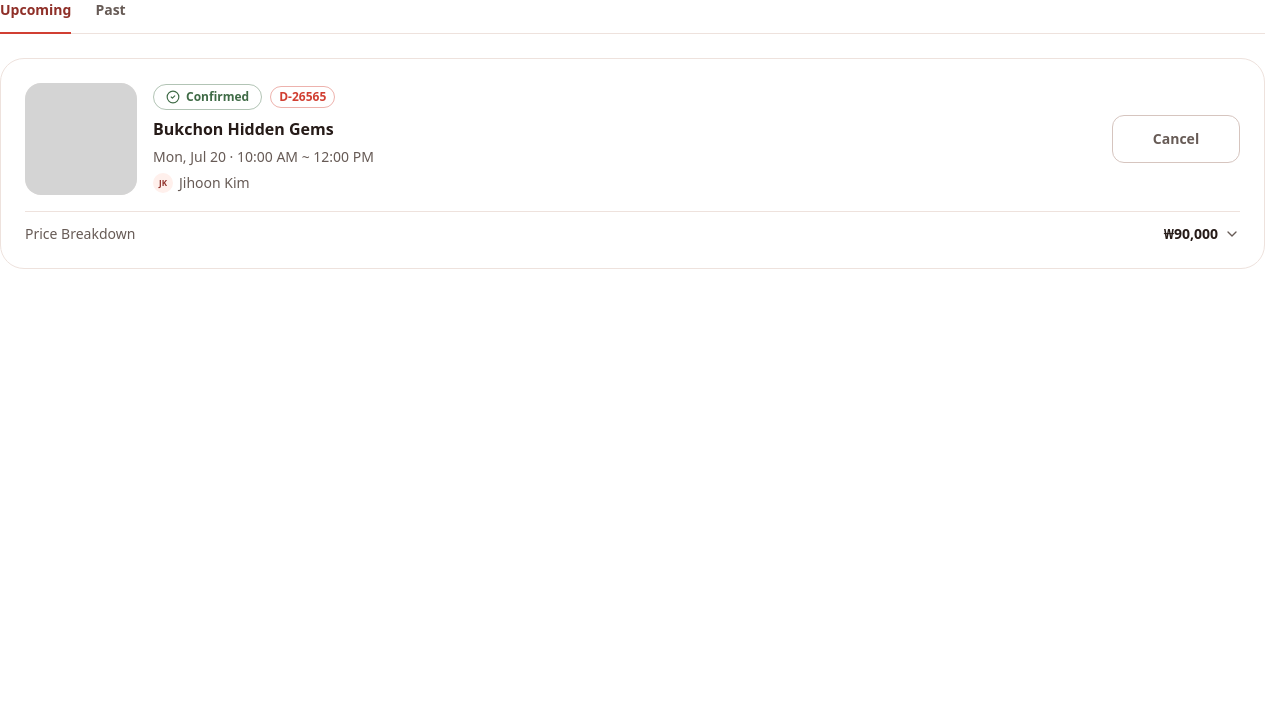
Test: ApplicationsContent › refreshes a pending refund result without offering another cancellation or claiming completion
What coordinates should you click on to do the following:
click the button "Cancel"
I would click on:
 (1176, 139)
Its box is x1=1112 y1=115 x2=1240 y2=163.
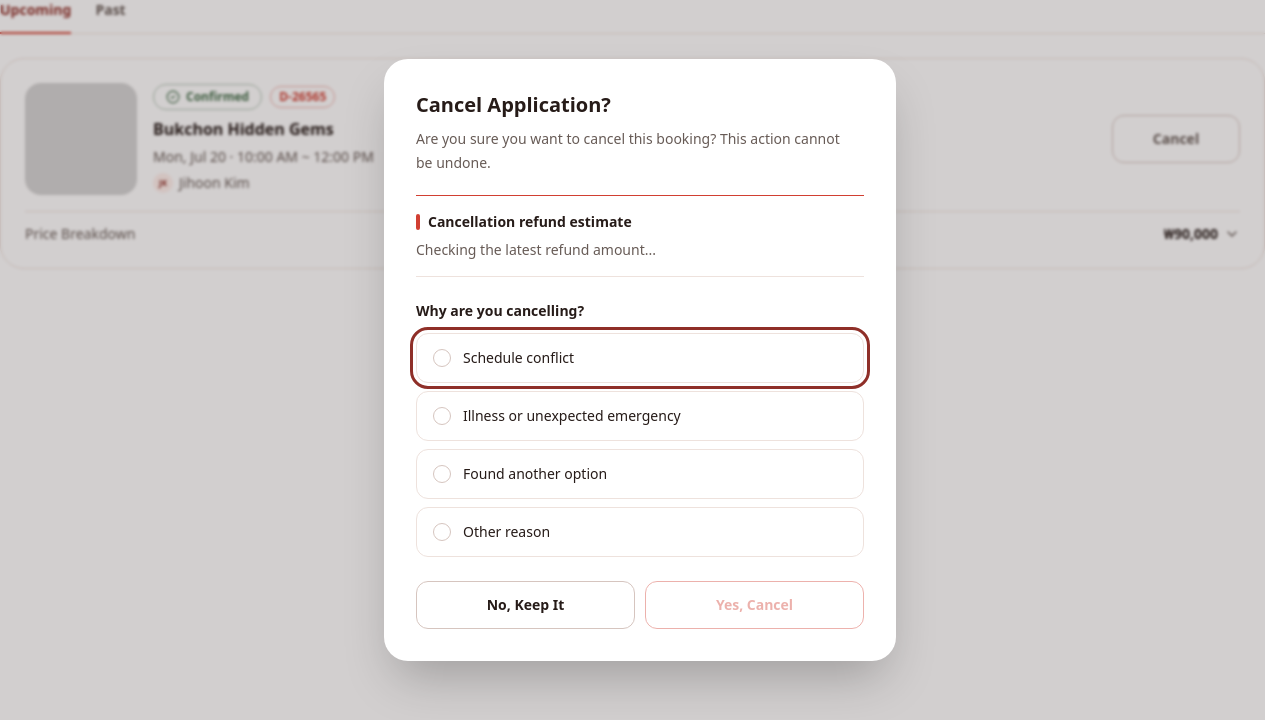
What coordinates should you click on to do the following:
click the button "Schedule conflict"
I would click on:
 (519, 358)
Its box is x1=416 y1=333 x2=864 y2=383.
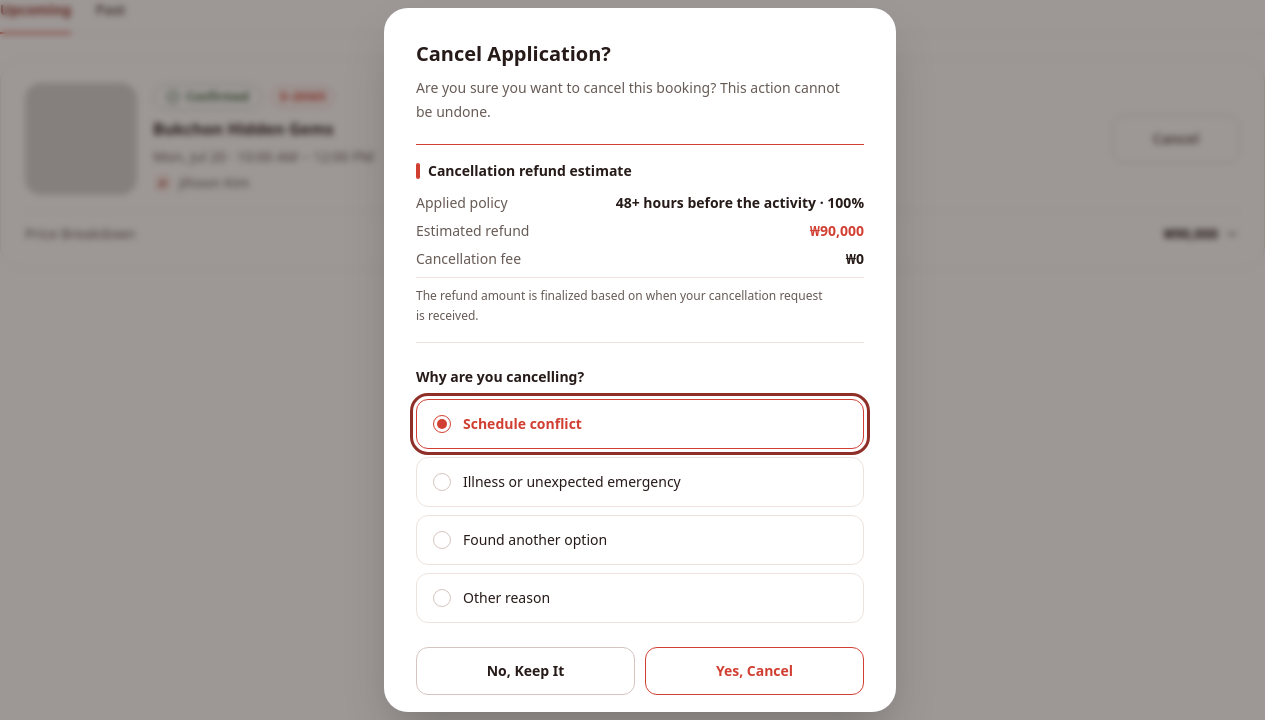
Result: the button "Yes, Cancel" is enabled
What coordinates should you click on to do the following:
click the button "Yes, Cancel"
I would click on:
 (754, 671)
Its box is x1=645 y1=647 x2=864 y2=695.
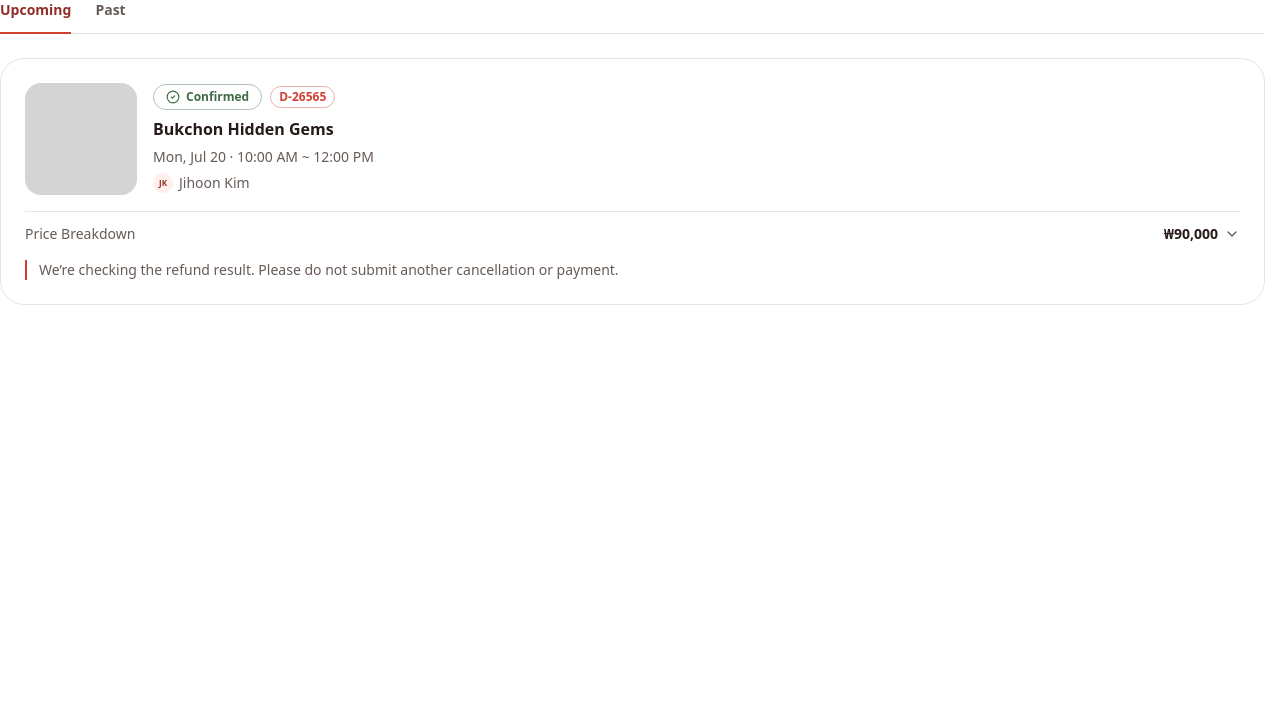
Result: the text "We’re checking the refund result. Please do not submit another cancellation or payment." is shown at x1=39 y1=260 x2=619 y2=279
Result: the dialog is gone
